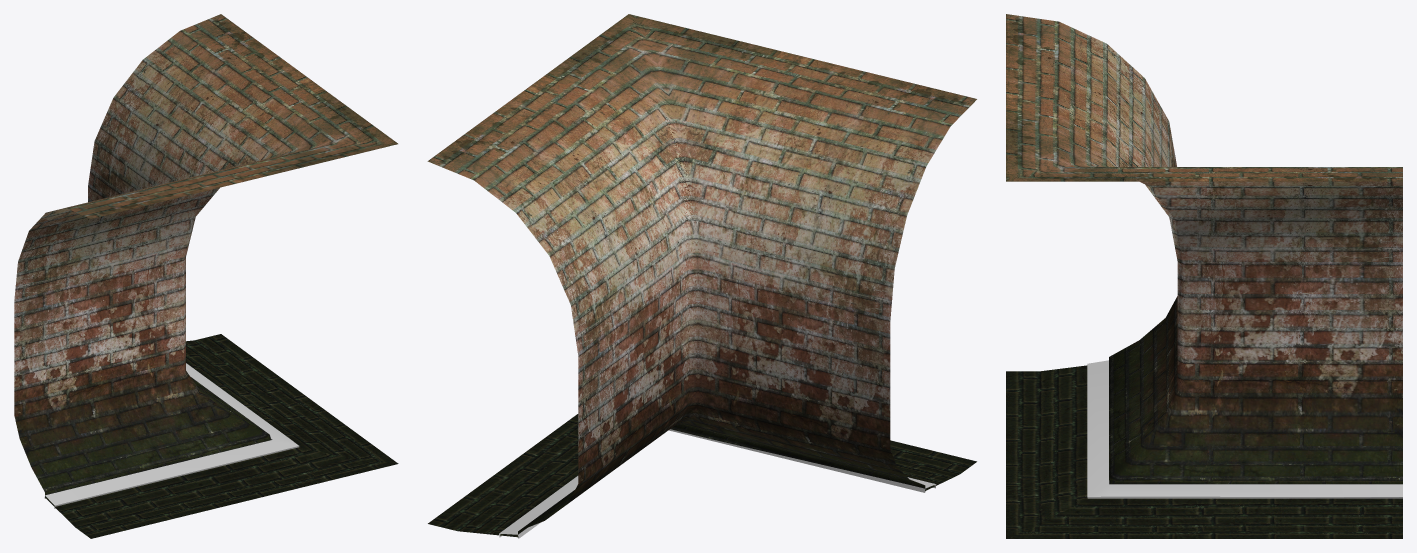
File: TL_convex.DAE
The picture shows the model from 3 angles, left to right: view 1: azimuth 30°, elevation 25°; view 2: azimuth 150°, elevation 25°; view 3: azimuth 270°, elevation 25°; orthographic projection. The views are drawn at different scales.
Parts seen in each view (by area): view 1: tunnel_low_convex, tunnel_low_floor_convex, tunnel_low_drain_convex; view 2: tunnel_low_convex, tunnel_low_floor_convex, tunnel_low_drain_convex; view 3: tunnel_low_convex, tunnel_low_floor_convex, tunnel_low_drain_convex.
Boxes of the visible parts, x1,y1,x2,y2 form: tunnel_low_convex: [14, 14, 397, 498]; tunnel_low_floor_convex: [45, 334, 398, 538]; tunnel_low_drain_convex: [44, 363, 299, 508]; tunnel_low_convex: [427, 14, 976, 537]; tunnel_low_floor_convex: [428, 414, 976, 537]; tunnel_low_drain_convex: [499, 429, 936, 538]; tunnel_low_convex: [1006, 14, 1402, 484]; tunnel_low_floor_convex: [1006, 365, 1402, 538]; tunnel_low_drain_convex: [1087, 360, 1402, 498].
Bounding box in the file's own units: 3 × 3 × 2.98.
